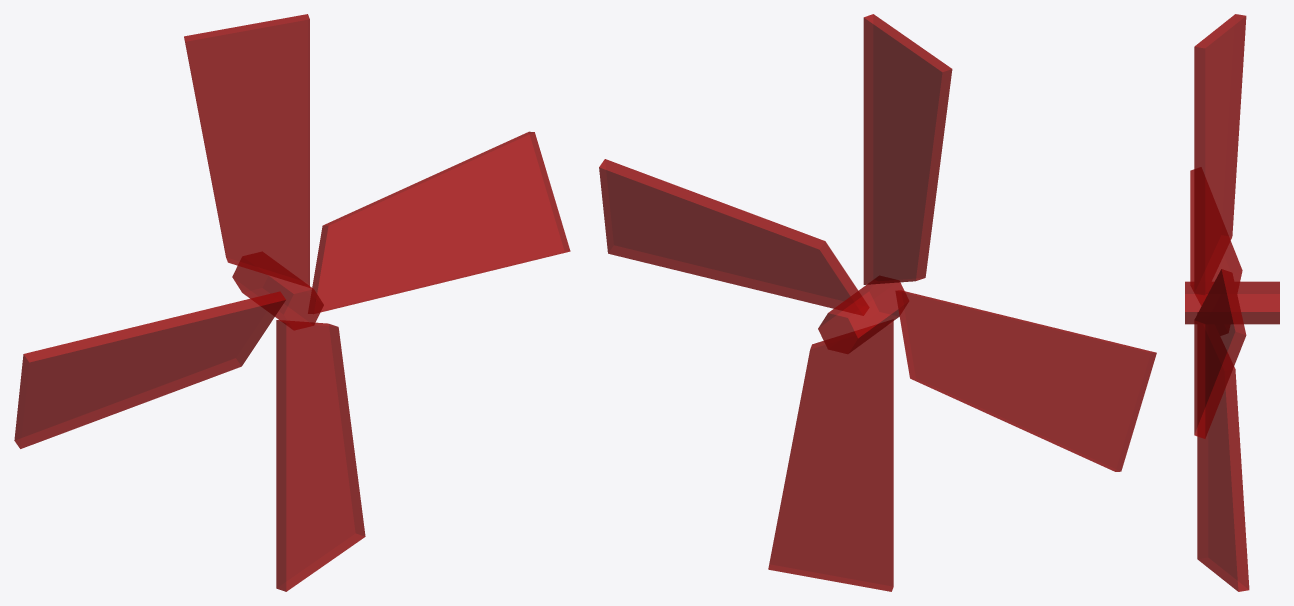
File: SM_Bld_Windmill_01_Blades_01_Collision.fbx
3 renders of one model, left to right at view 1: azimuth 30°, elevation 25°; view 2: azimuth 150°, elevation 25°; view 3: azimuth 270°, elevation 25°, orthographic. The views are drawn at different scales.
Parts seen in each view (by area): view 1: SM_Bld_Windmill_01_Blades_01_Collision; view 2: SM_Bld_Windmill_01_Blades_01_Collision; view 3: SM_Bld_Windmill_01_Blades_01_Collision.
Part boxes in pixels (bbox=[...]): SM_Bld_Windmill_01_Blades_01_Collision: bbox=[14, 14, 570, 591]; SM_Bld_Windmill_01_Blades_01_Collision: bbox=[599, 14, 1156, 591]; SM_Bld_Windmill_01_Blades_01_Collision: bbox=[1185, 14, 1279, 591].
Size of the model in its own units: 948 by 948 by 156.
